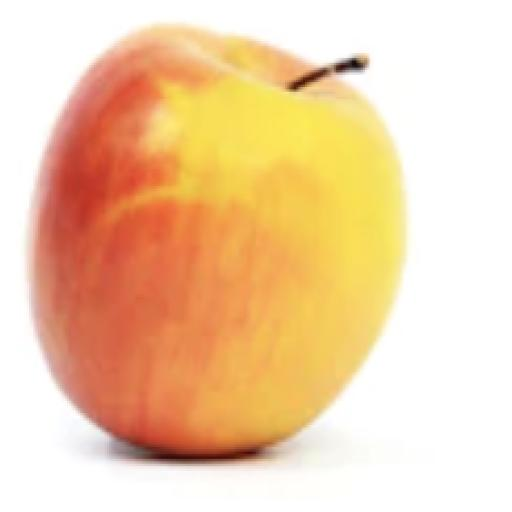apple: (32, 27, 405, 456)
